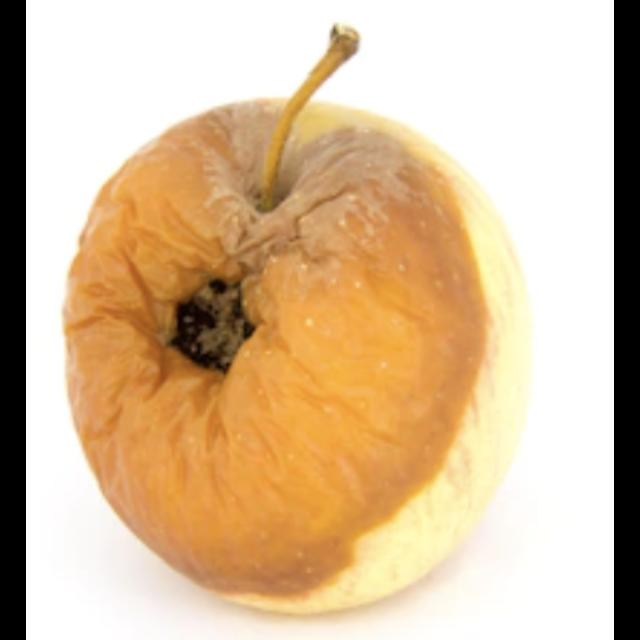Apel Tidak Segar: (55, 76, 543, 624)
